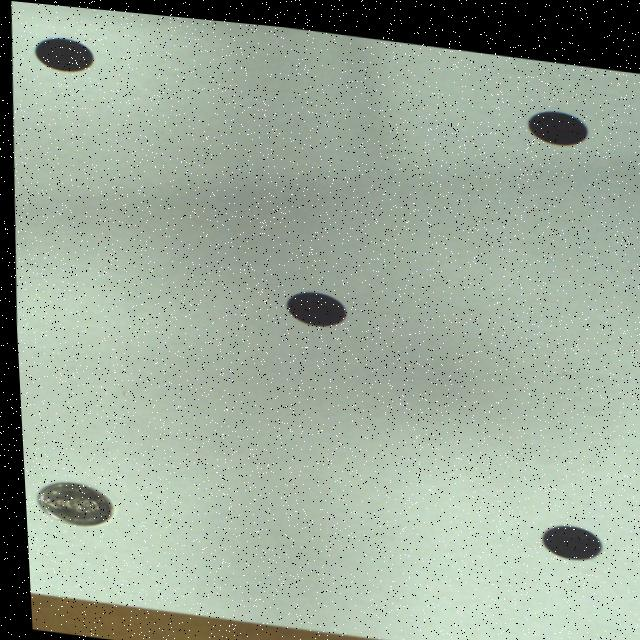space: (283, 284, 342, 319), (526, 99, 585, 133), (536, 513, 595, 547), (35, 36, 93, 69)
tail1bath: (32, 480, 107, 524)
